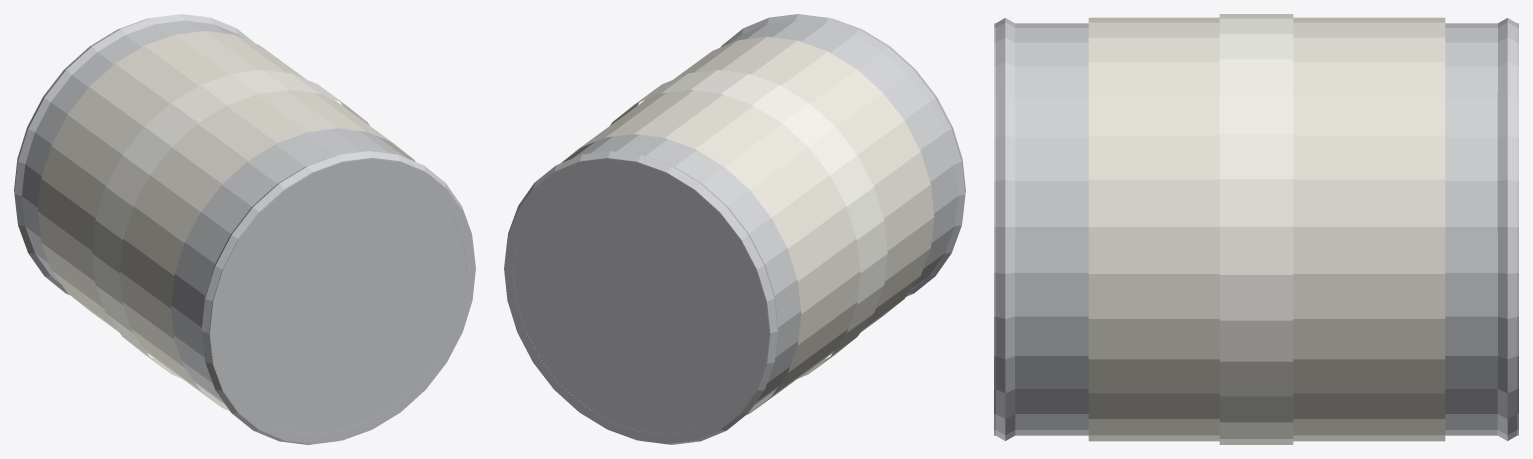
The model's file is can_5.obj.
3 views of the same model, side by side, from view 1: azimuth 30°, elevation 25°; view 2: azimuth 150°, elevation 25°; view 3: azimuth 270°, elevation 25° (orthographic). The views are drawn at different scales.
Size of the model in its own units: 0.115 by 0.115 by 0.1401.
